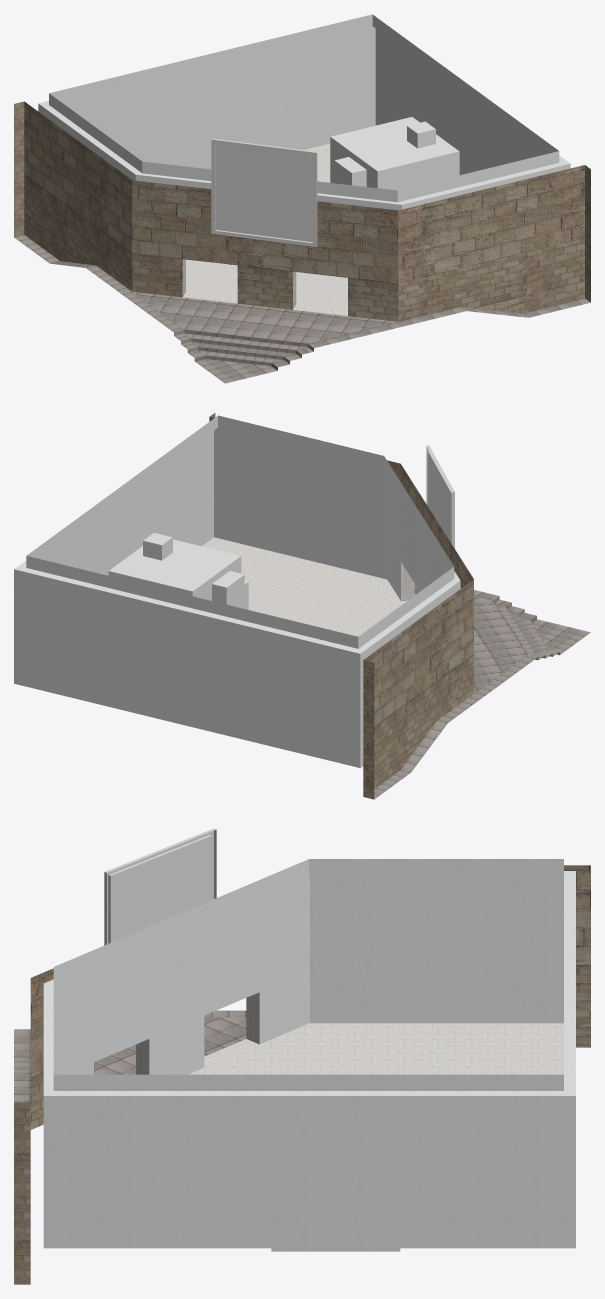
Rendered from mall.glb.
3 views of the same model, one above another, from view 1: azimuth 30°, elevation 25°; view 2: azimuth 150°, elevation 25°; view 3: azimuth 270°, elevation 25° (orthographic). The views are drawn at different scales.
Parts seen in each view (by area): view 1: mall; view 2: mall; view 3: mall.
Part boxes in pixels (box(x1,y1,x2,y2)): mall: box(14, 14, 590, 383); mall: box(14, 413, 590, 799); mall: box(14, 828, 590, 1284).
Size of what is drawn, in the model's own units: 16 by 7.71 by 16.
Materials: 5 (4 with a texture image).
